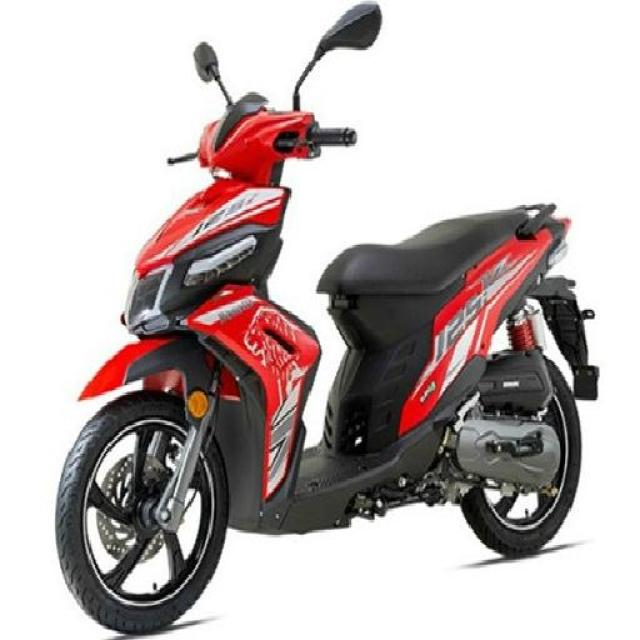All: (47, 86, 602, 636)
Head: (162, 94, 360, 179)
Tail: (501, 188, 578, 272)
